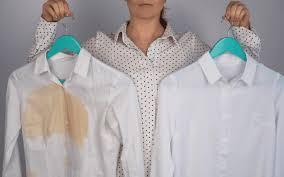coffee: (25, 87, 86, 142)
